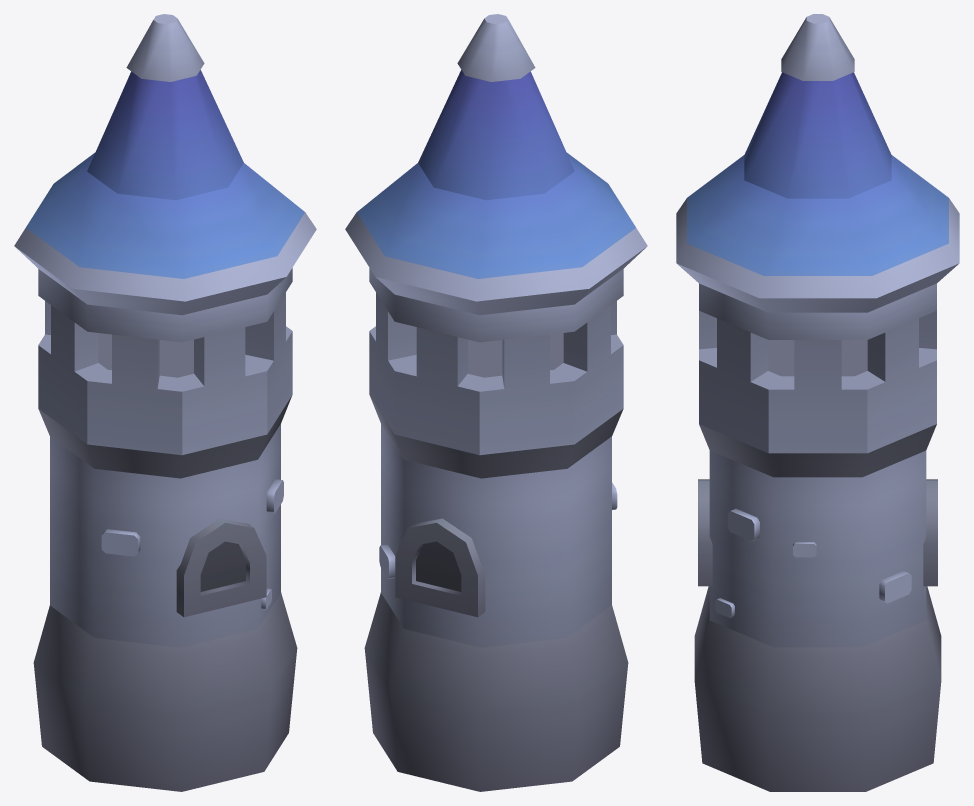
File: tower-complete-large.glb
The picture shows the model from 3 angles, left to right: view 1: azimuth 30°, elevation 25°; view 2: azimuth 150°, elevation 25°; view 3: azimuth 270°, elevation 25°; orthographic projection.
Parts seen in each view (by area): view 1: tower-complete-large; view 2: tower-complete-large; view 3: tower-complete-large.
Boxes of the visible parts, <box> form: tower-complete-large: <box>14,14,316,791</box>; tower-complete-large: <box>345,14,647,791</box>; tower-complete-large: <box>676,14,959,791</box>.
Size of the model in its own units: 3.63 by 10.22 by 3.63.
1 material, 1 textured.
